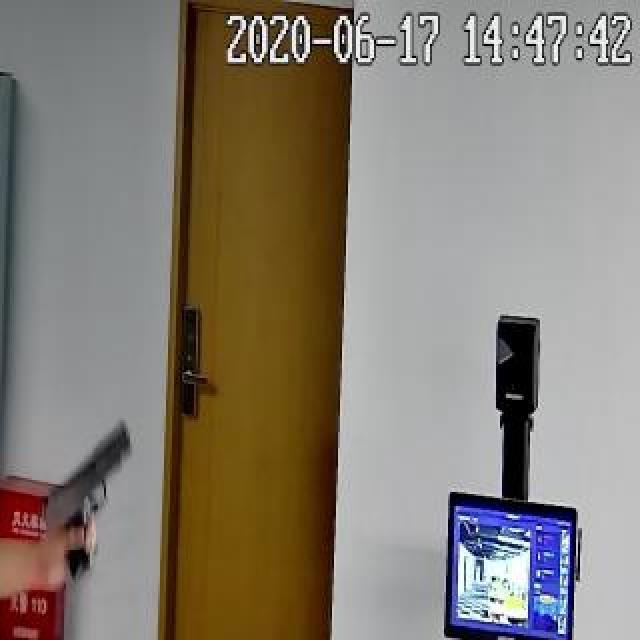Guns: (25, 418, 137, 592)
